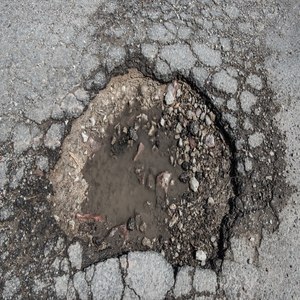pothole: (38, 51, 241, 280)
